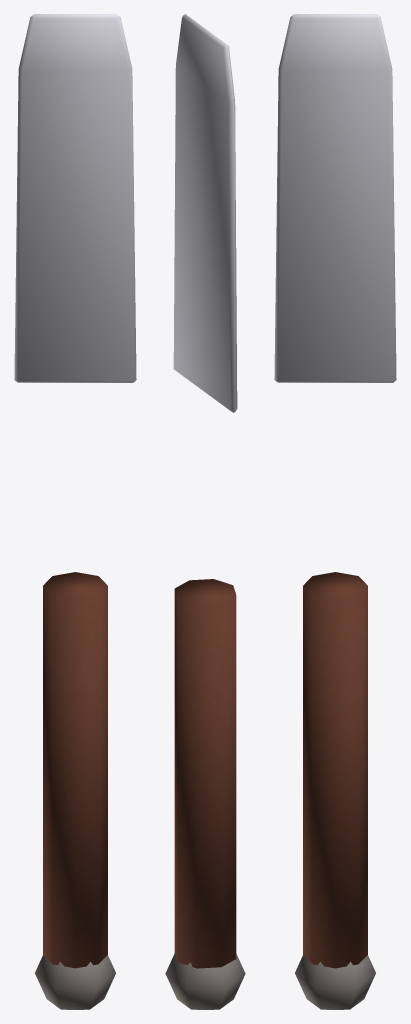
Rendered from kitchen_knife.fbx.
3 renders of one model, left to right at view 1: azimuth 90°, elevation 25°; view 2: azimuth 210°, elevation 25°; view 3: azimuth 270°, elevation 25°, orthographic.
Parts seen in each view (by area): view 1: kitchen_knife; view 2: kitchen_knife; view 3: kitchen_knife.
Boxes of the visible parts, x1,y1,x2,y2 form: kitchen_knife: (14,14,136,1009); kitchen_knife: (165,14,245,1009); kitchen_knife: (274,14,396,1009).
Bounding box in the file's own units: 0.0173 × 0.27 × 0.03.
3 materials, 1 textured.
